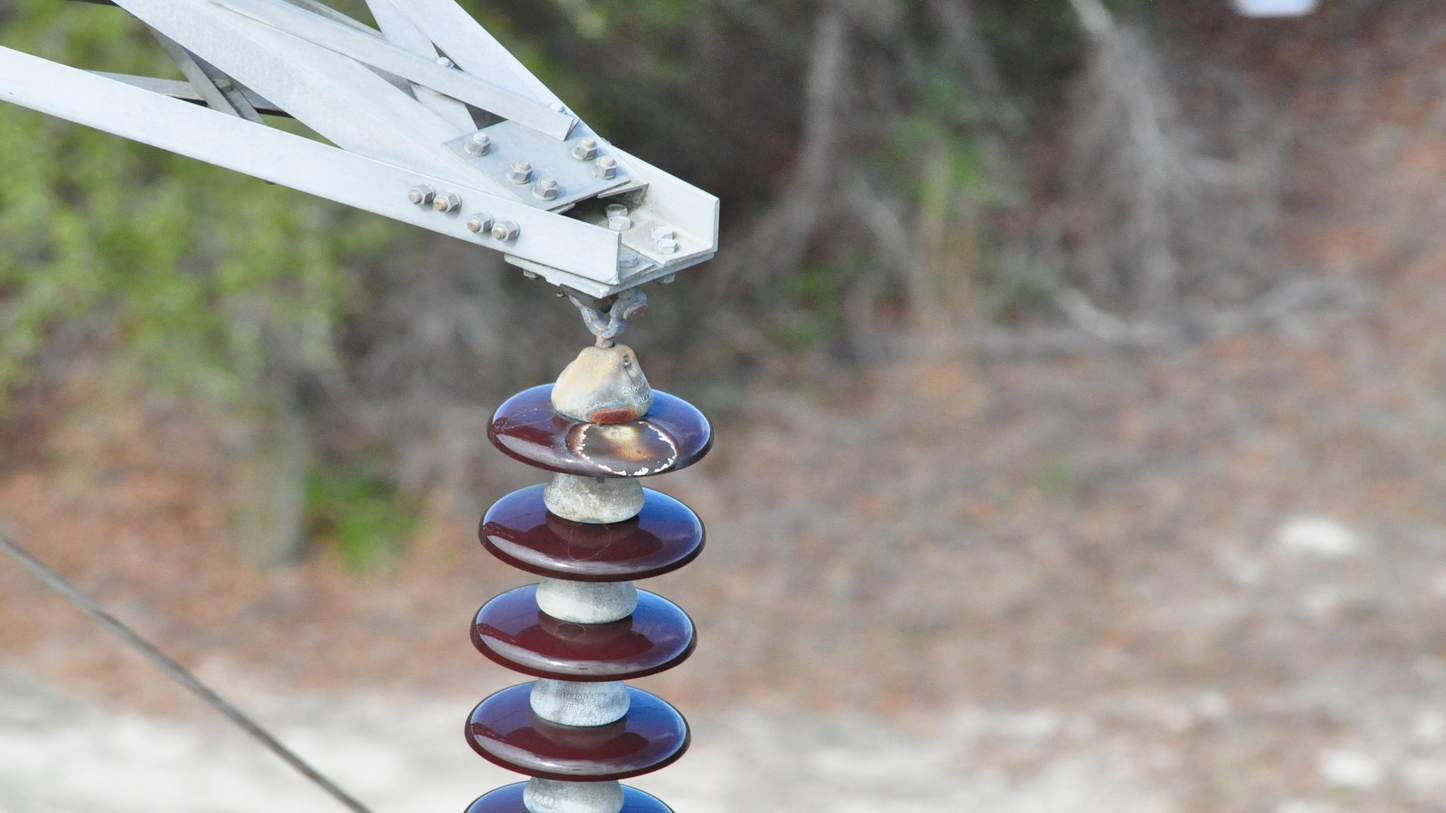insulator: (459, 378, 721, 813)
